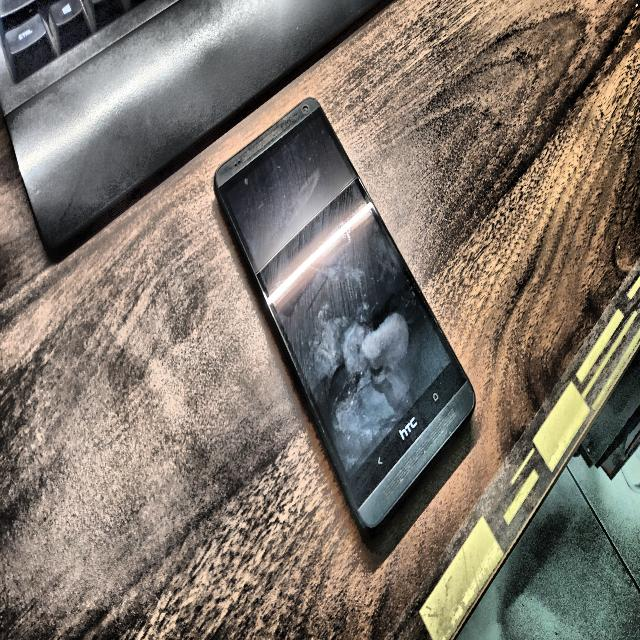PHONE: (215, 98, 475, 528)
